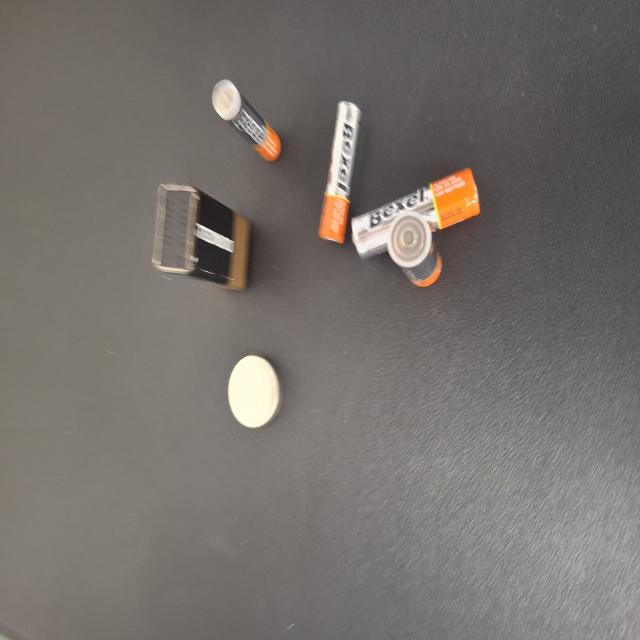9V: (262, 204, 342, 334)
AA: (287, 468, 354, 640), (264, 516, 322, 590)
AAA: (297, 425, 404, 481), (359, 283, 420, 375)
COIN: (160, 304, 213, 374)
